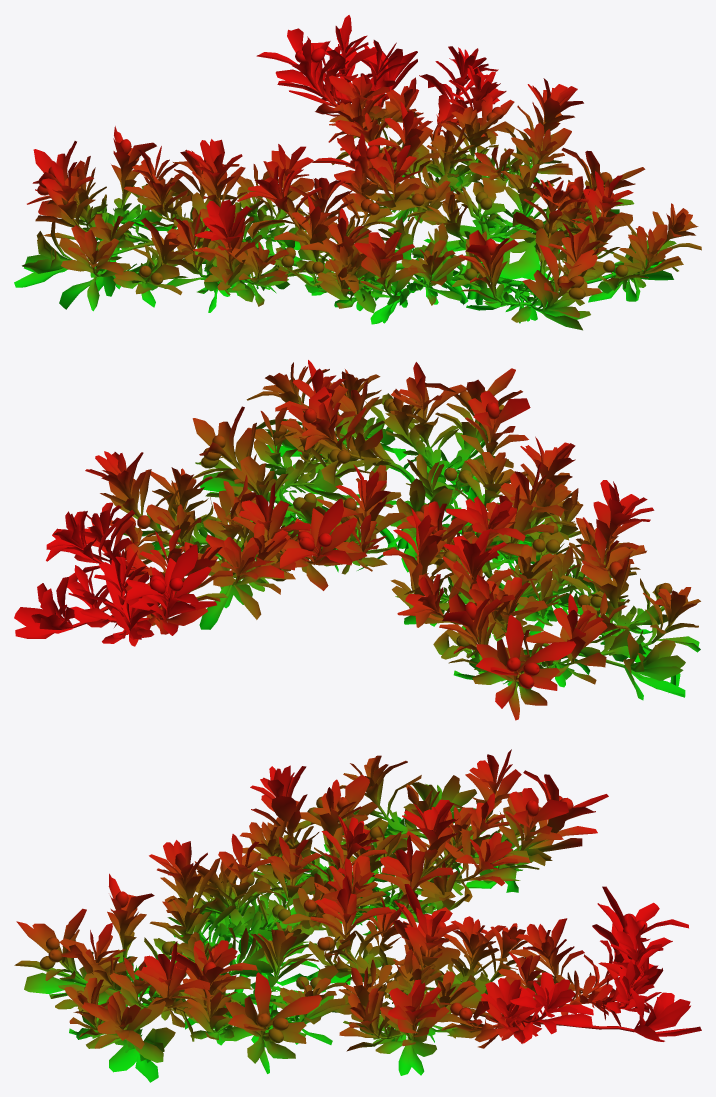
File: Alpine Bearberry_LOD2_Var1_xb0gdazqx.fbx
3 renders of one model, top to bottom at view 1: azimuth 30°, elevation 25°; view 2: azimuth 150°, elevation 25°; view 3: azimuth 270°, elevation 25°, orthographic. The views are drawn at different scales.
Parts seen in each view (by area): view 1: _wjix_Var1_LOD2; view 2: _wjix_Var1_LOD2; view 3: _wjix_Var1_LOD2.
Part boxes in pixels (<box>): _wjix_Var1_LOD2: <box>14,15,701,330</box>; _wjix_Var1_LOD2: <box>14,360,700,720</box>; _wjix_Var1_LOD2: <box>14,749,701,1082</box>.
Bounding box in the file's own units: 72.99 × 17.2 × 74.3.
